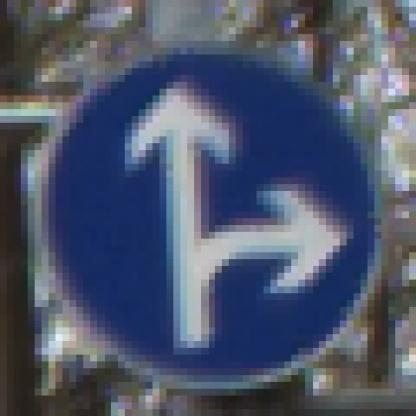Straight or Right: (36, 35, 375, 376)
